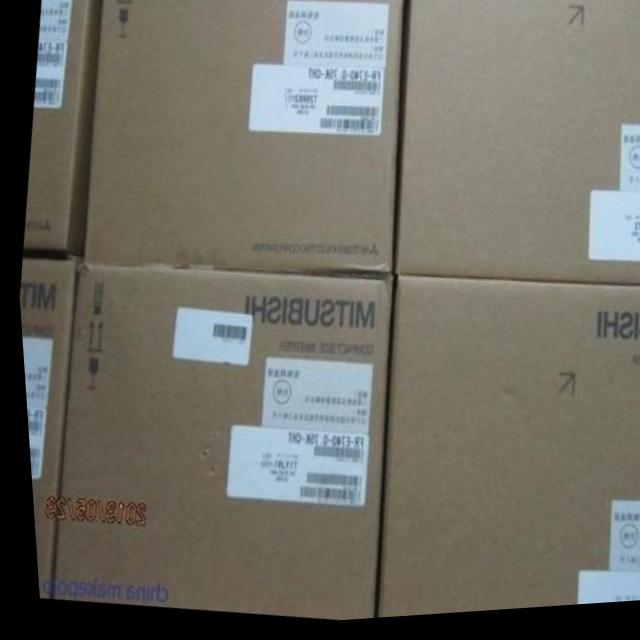box: (46, 264, 389, 624), (369, 281, 640, 622), (78, 0, 403, 279), (390, 0, 640, 293), (21, 0, 102, 259), (16, 258, 73, 597)
